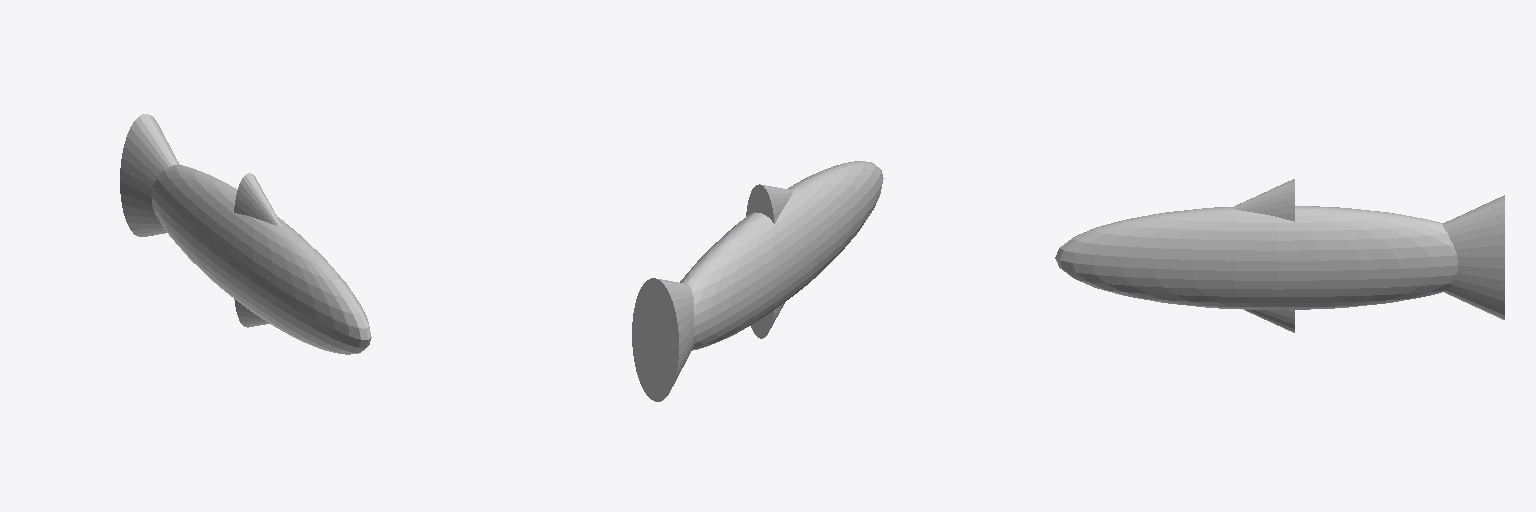
File: fish2.obj
The picture shows the model from 3 angles: view 1: azimuth 30°, elevation 25°; view 2: azimuth 150°, elevation 25°; view 3: azimuth 270°, elevation 25°; orthographic projection.
Parts seen in each view (by area): view 1: Cone; view 2: Cone; view 3: Cone.
Boxes of the visible parts, x1=… form: Cone: x1=120, y1=114, x2=371, y2=354; Cone: x1=632, y1=161, x2=883, y2=401; Cone: x1=1055, y1=179, x2=1504, y2=332.
Size of the model in its own units: 0.2827 by 0.768 by 2.03.